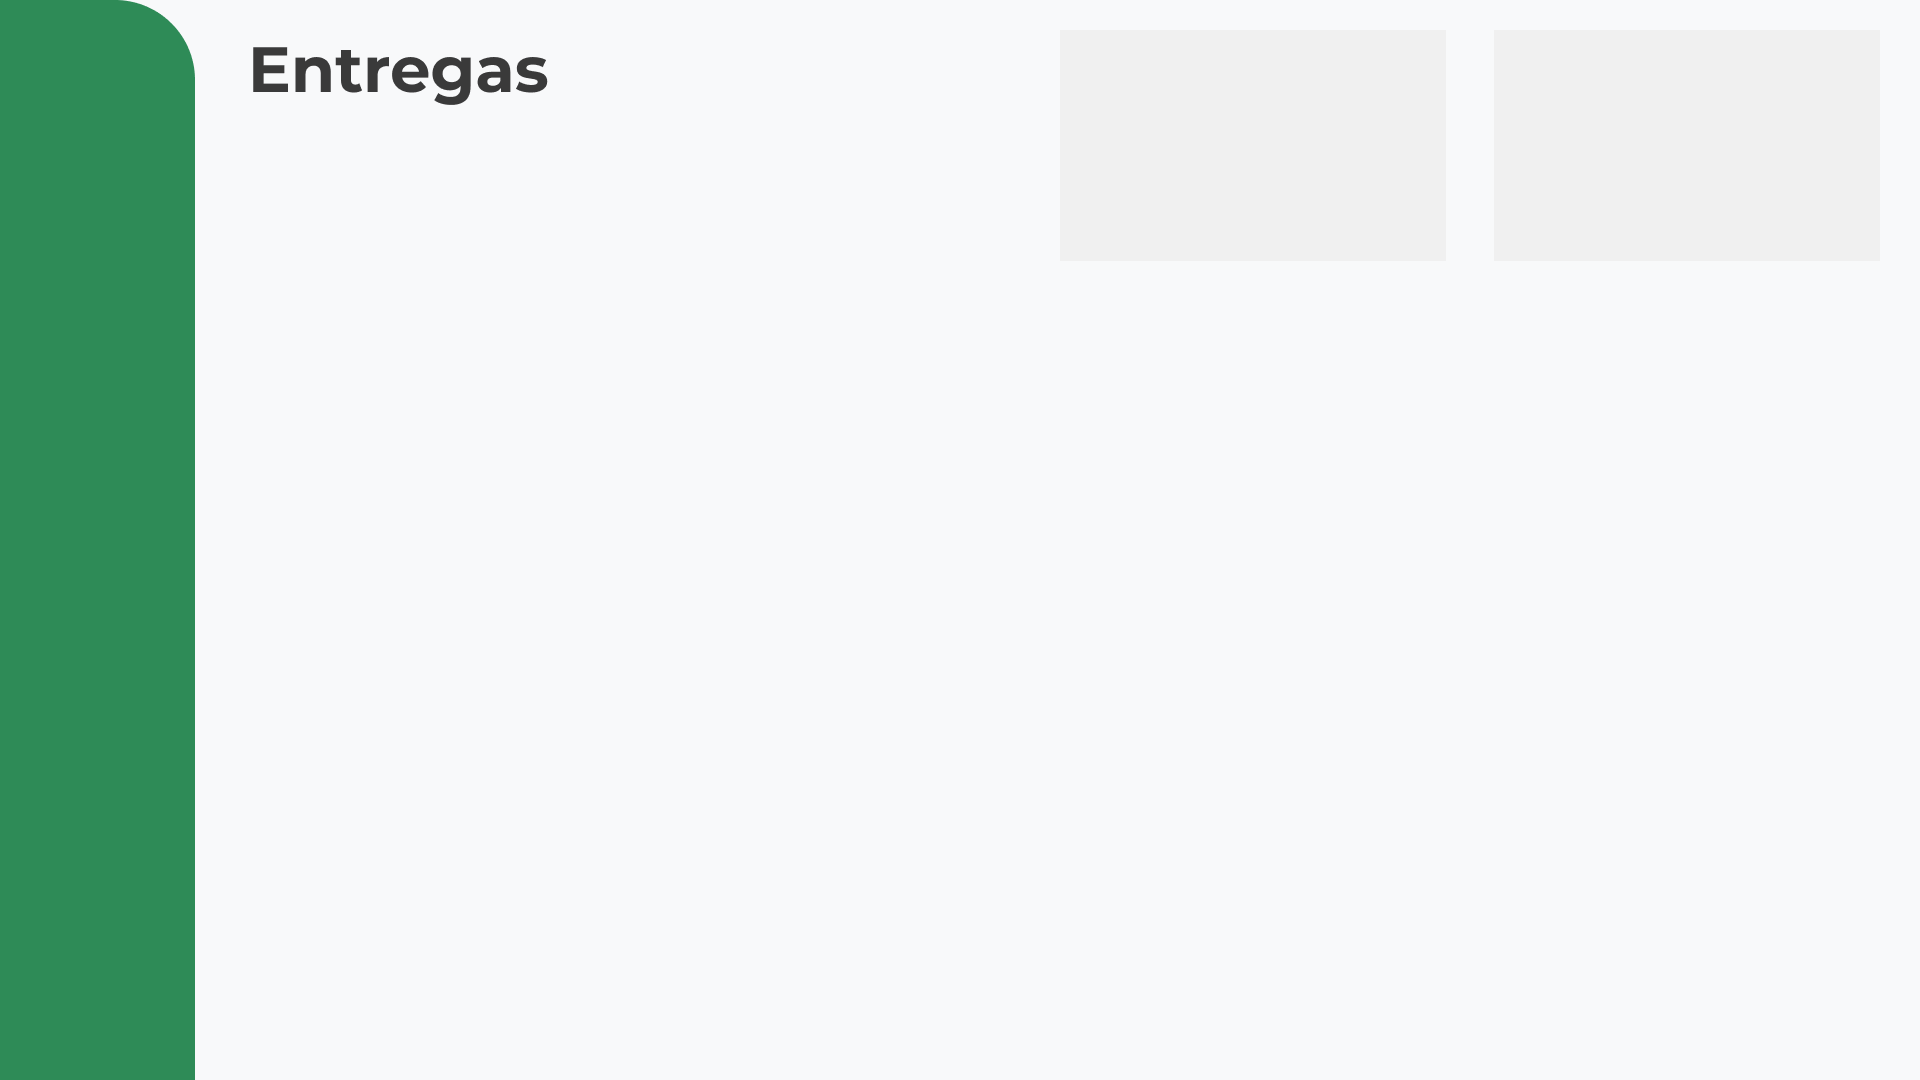

The page's visual inventory and layout, read from the dashboard file:
{"tool":"powerbi","page":{"name":"Home","canvas":[1920,1080],"ordinal":0},"visuals":[{"type":"actionButton","box":[22.5,940,144,88],"z":3000}]}

Visuals, with their boxes in screenshot pixels (x1, y1, x2, y2), scaled from the page's 1920x1080 canvas onto the 1920x1080 screenshot:
actionButton: BBox(22, 940, 166, 1028)
